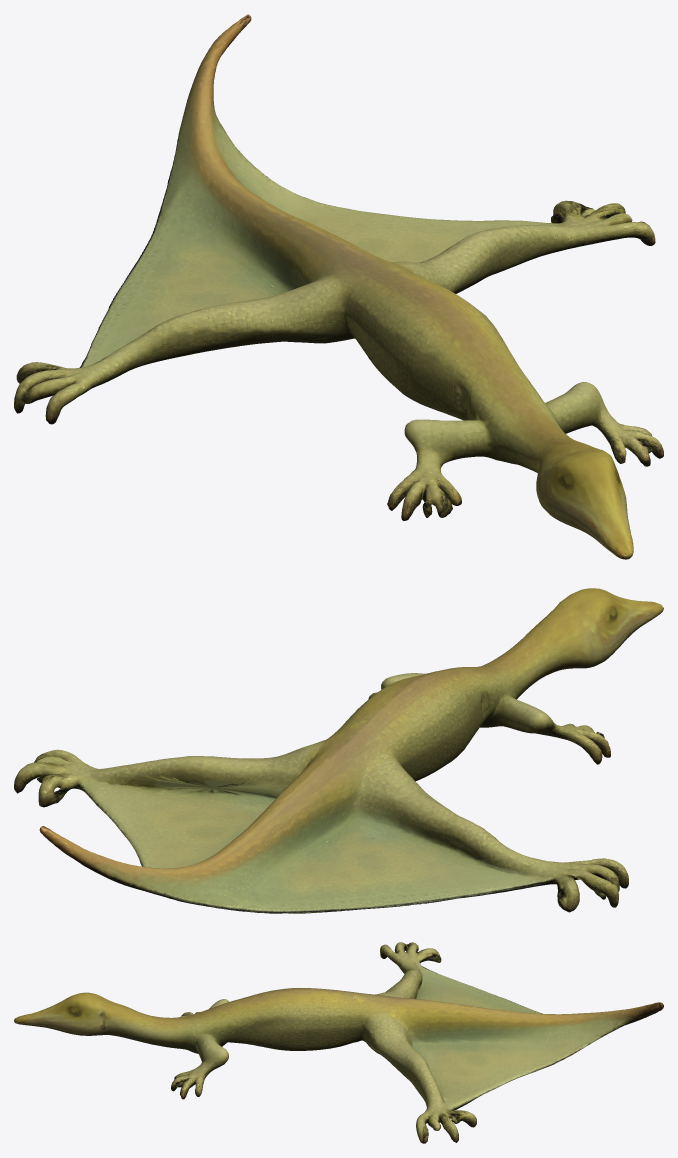
3 renders of one model, top to bottom at view 1: azimuth 30°, elevation 25°; view 2: azimuth 150°, elevation 25°; view 3: azimuth 270°, elevation 25°, orthographic. The views are drawn at different scales.
Visible parts, largest first — view 1: geometry_0; view 2: geometry_0; view 3: geometry_0.
Part boxes in pixels (x1,y1,x2,y2): geometry_0: [14, 14, 663, 559]; geometry_0: [14, 588, 663, 913]; geometry_0: [14, 942, 663, 1143].
Size of the model in its own units: 0.1663 by 0.0376 by 0.24.
1 material, 1 textured.
